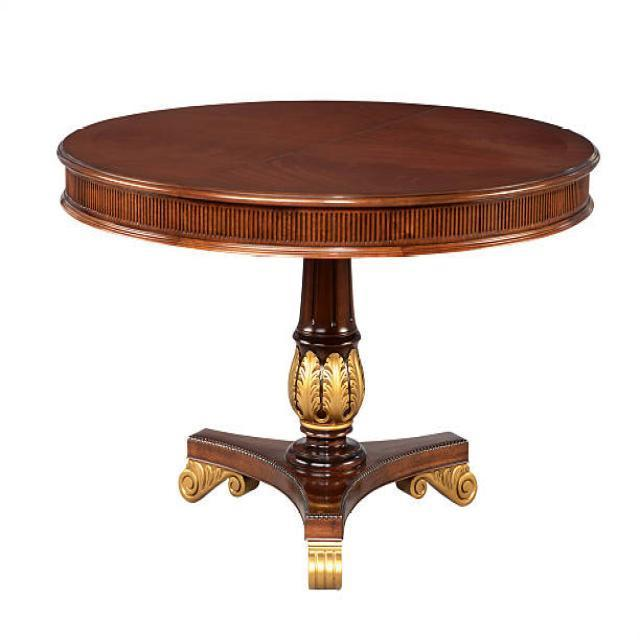table: (55, 97, 600, 590)
